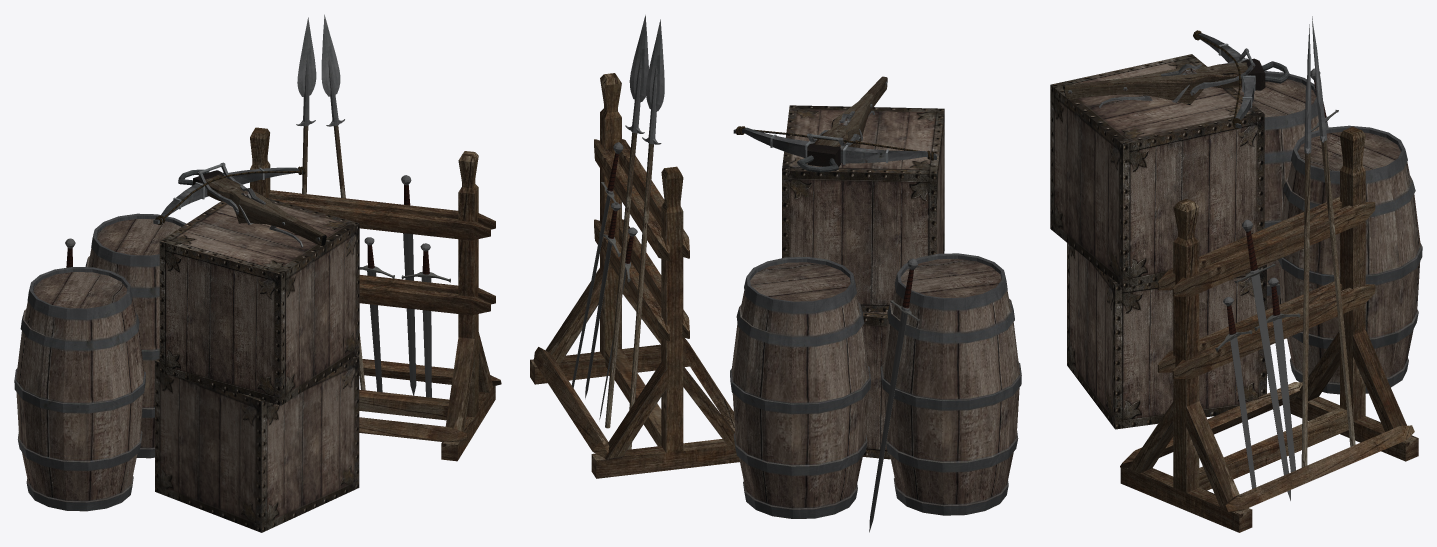
Rendered from rack.gltf.
3 views of the same model, side by side, from view 1: azimuth 30°, elevation 25°; view 2: azimuth 150°, elevation 25°; view 3: azimuth 270°, elevation 25° (orthographic). The views are drawn at different scales.
Parts seen in each view (by area): view 1: Weapon_rack; view 2: Weapon_rack; view 3: Weapon_rack.
Part boxes in pixels (<box>): Weapon_rack: <box>14,14,501,532</box>; Weapon_rack: <box>530,15,1021,532</box>; Weapon_rack: <box>1050,16,1422,532</box>.
Bounding box in the file's own units: 2.01 × 1.69 × 1.27.
Materials: 6 (6 with a texture image).
